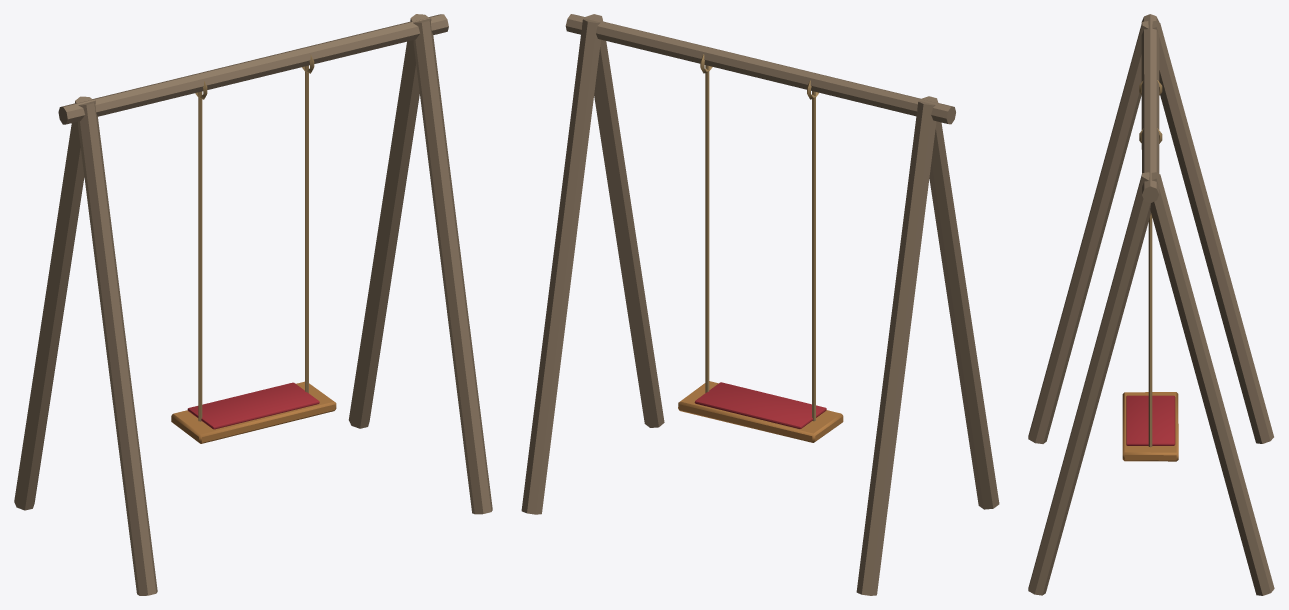
File: deco_swing.fbx
3 renders of one model, left to right at view 1: azimuth 30°, elevation 25°; view 2: azimuth 150°, elevation 25°; view 3: azimuth 270°, elevation 25°, orthographic. The views are drawn at different scales.
Parts seen in each view (by area): view 1: Swing_Frame, Swing_Seat, Swing_Ropes; view 2: Swing_Frame, Swing_Seat, Swing_Ropes; view 3: Swing_Frame, Swing_Seat, Swing_Ropes.
Part boxes in pixels (x1,y1,x2,y2): Swing_Frame: [14, 14, 492, 595]; Swing_Seat: [171, 381, 336, 443]; Swing_Ropes: [195, 54, 314, 421]; Swing_Frame: [521, 14, 999, 595]; Swing_Seat: [678, 381, 843, 442]; Swing_Ropes: [700, 54, 818, 421]; Swing_Frame: [1028, 14, 1274, 595]; Swing_Seat: [1122, 392, 1178, 461]; Swing_Ropes: [1139, 80, 1162, 447].
Size of the model in its own units: 250 by 283 by 151.
